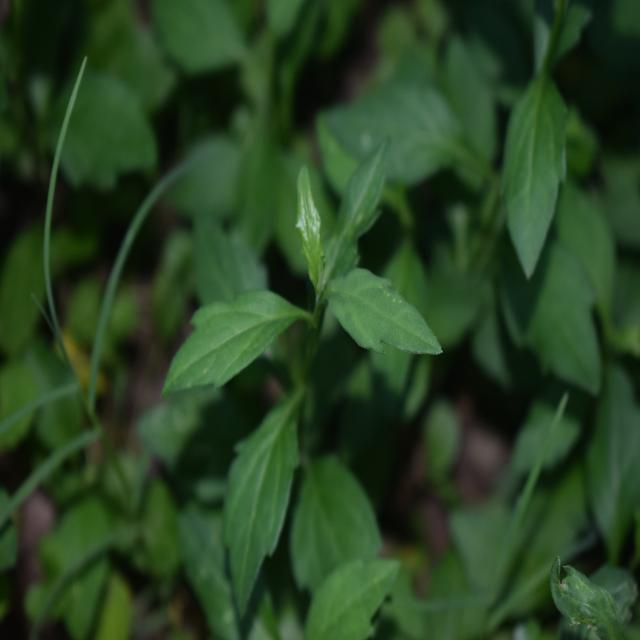Indian aster: (176, 139, 446, 586)
